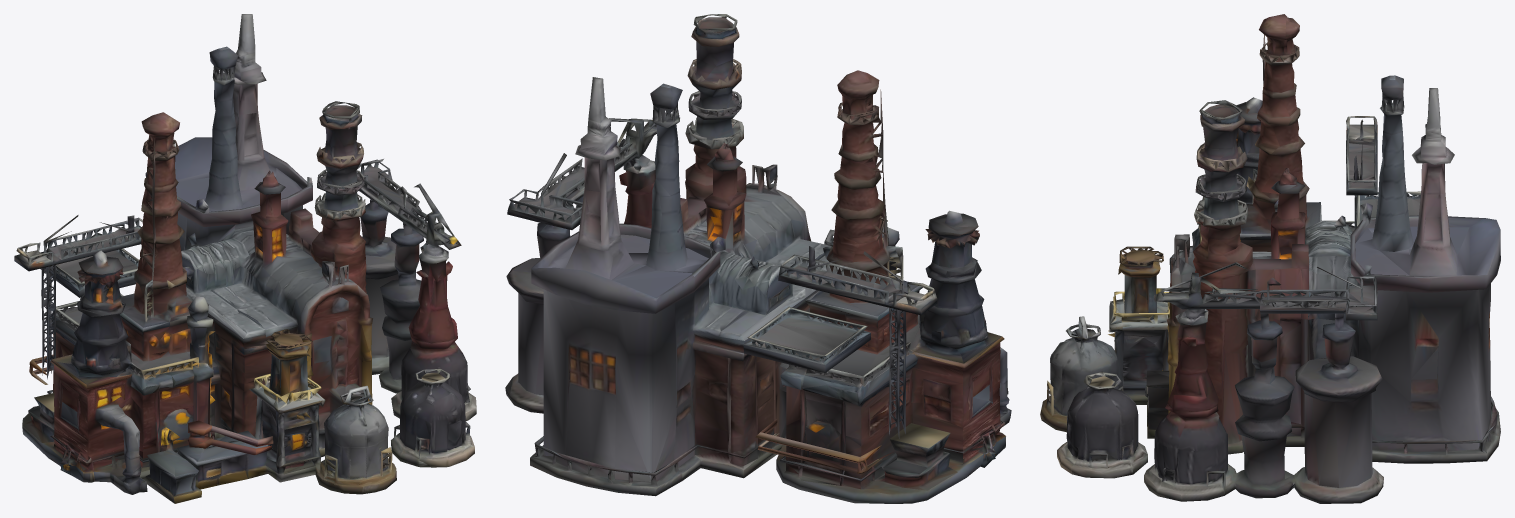
The model's file is env_industry_factoryskyline.fbx.
3 renders of one model, left to right at view 1: azimuth 30°, elevation 25°; view 2: azimuth 150°, elevation 25°; view 3: azimuth 270°, elevation 25°, orthographic. The views are drawn at different scales.
Parts seen in each view (by area): view 1: env_industry_factoryskyline_LOD0; view 2: env_industry_factoryskyline_LOD0; view 3: env_industry_factoryskyline_LOD0.
Part boxes in pixels (x1,y1,x2,y2): env_industry_factoryskyline_LOD0: (14,14,476,503); env_industry_factoryskyline_LOD0: (505,14,1011,503); env_industry_factoryskyline_LOD0: (1040,14,1500,503).
Size of what is drawn, in the model's own units: 0.9784 by 0.8038 by 0.9359.
